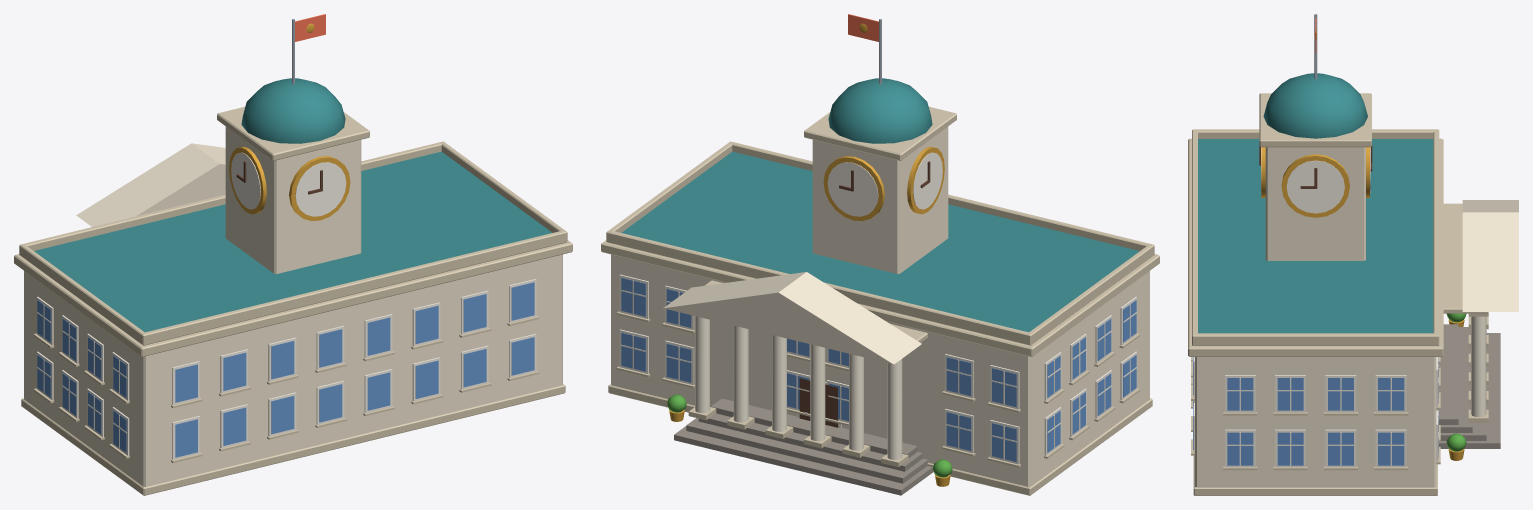
Rendered from bld_cityhall.glb.
The picture shows the model from 3 angles, left to right: view 1: azimuth 30°, elevation 25°; view 2: azimuth 150°, elevation 25°; view 3: azimuth 270°, elevation 25°; orthographic projection.
Parts seen in each view (by area): view 1: bld_cityhall; view 2: bld_cityhall; view 3: bld_cityhall.
Boxes of the visible parts, bbox=[...] form: bld_cityhall: bbox=[14, 14, 572, 495]; bld_cityhall: bbox=[601, 14, 1159, 495]; bld_cityhall: bbox=[1188, 14, 1518, 495].
Size of the model in its own units: 24.7 by 20.87 by 16.45.
